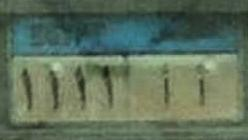1: (42, 62, 63, 113), (72, 66, 93, 112), (99, 63, 117, 113), (18, 63, 35, 115)
alif: (193, 57, 214, 112), (158, 62, 174, 113)
